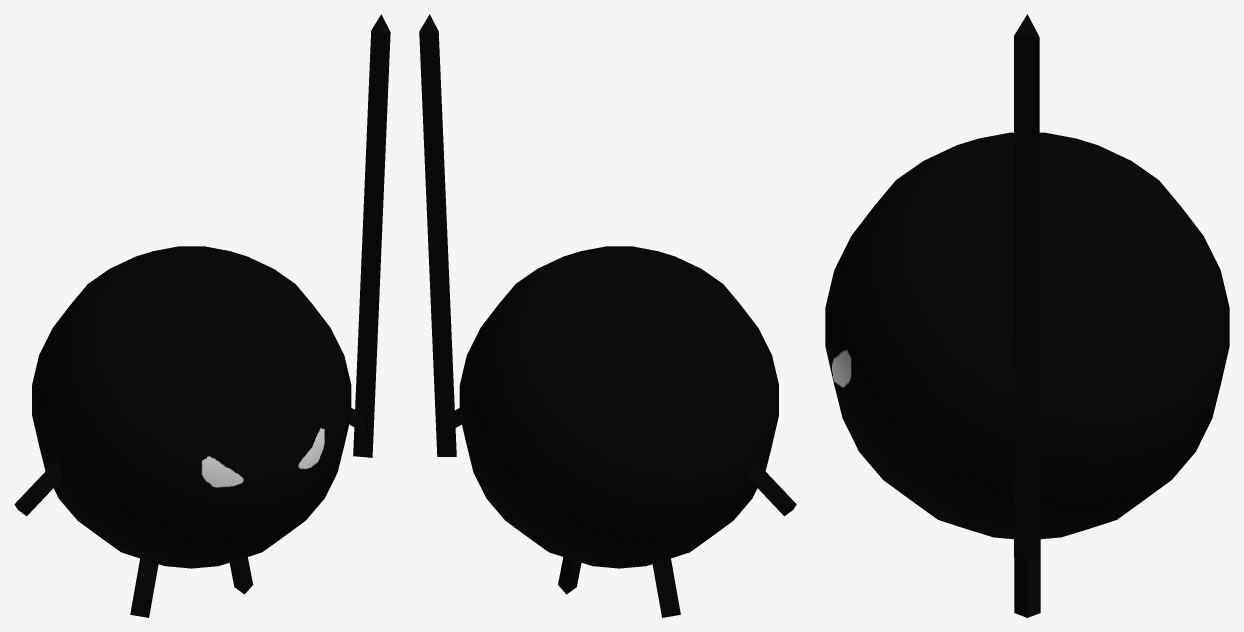
Rendered from enemy03.obj.
3 renders of one model, left to right at view 1: azimuth 30°, elevation 25°; view 2: azimuth 150°, elevation 25°; view 3: azimuth 270°, elevation 25°, orthographic. The views are drawn at different scales.
Visible parts, largest first — view 1: pSphere1, pCylinder2, pasted__pCylinder1 group, pCylinder1; view 2: pSphere1, pCylinder2, pasted__pCylinder1 group, pCylinder1; view 3: pSphere1, pCylinder2, pasted__pCylinder1 group.
Part boxes in pixels (x1,y1,x2,y2): pSphere1: (32, 246, 351, 568); pCylinder2: (353, 14, 390, 457); pasted__pCylinder1 group: (130, 557, 253, 617); pCylinder1: (14, 408, 366, 516); pSphere1: (459, 246, 778, 568); pCylinder2: (419, 14, 456, 456); pasted__pCylinder1 group: (558, 557, 680, 617); pCylinder1: (444, 408, 796, 516); pSphere1: (825, 132, 1229, 539); pCylinder2: (1014, 14, 1039, 559); pasted__pCylinder1 group: (1014, 539, 1040, 617).
Size of the model in its own units: 2.67 by 3.71 by 1.98.
2 materials, 1 textured.
